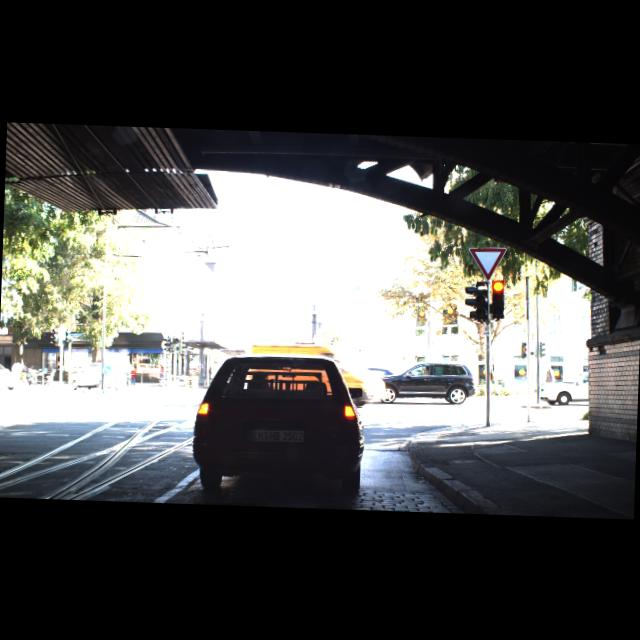mandatory: (104, 366, 110, 376)
other: (466, 246, 506, 280)
